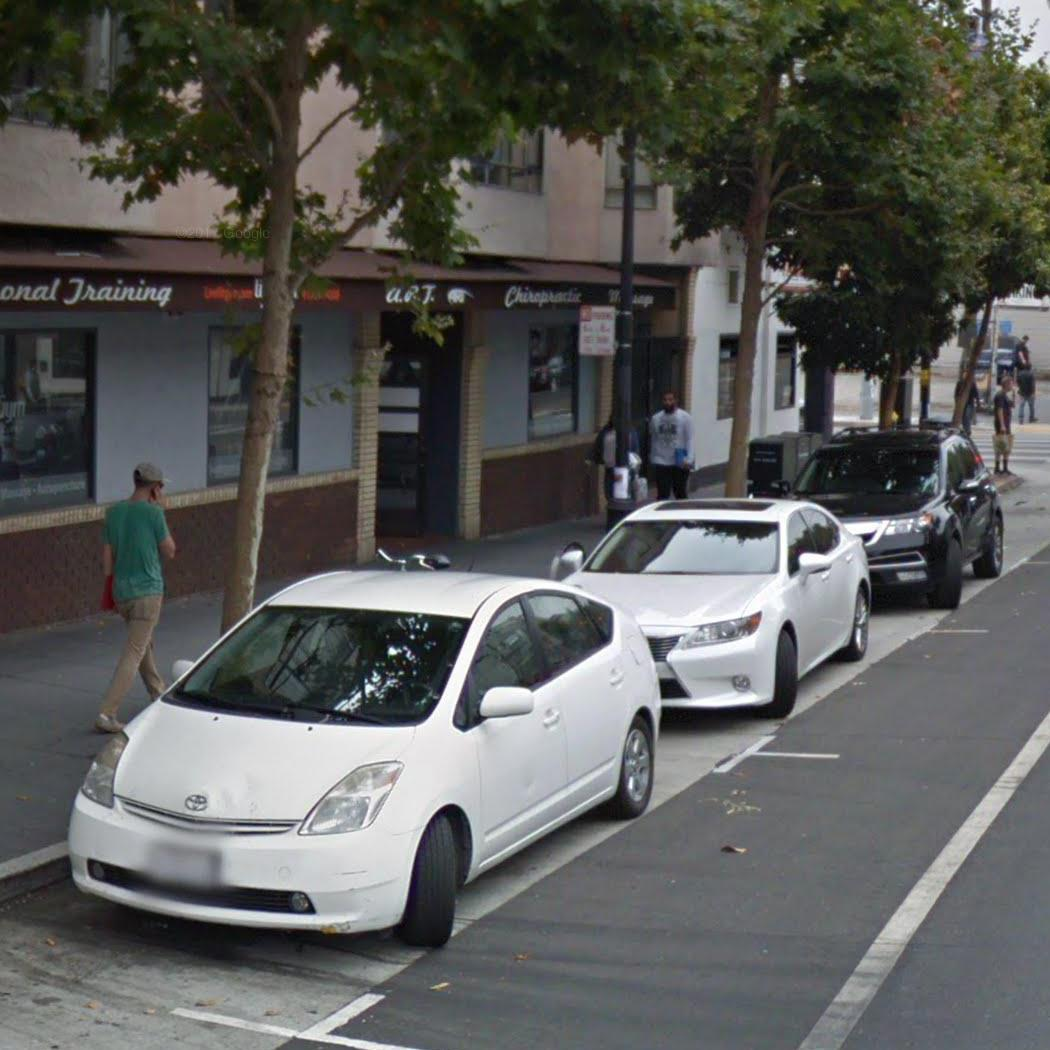No Parking: (577, 302, 617, 360)
